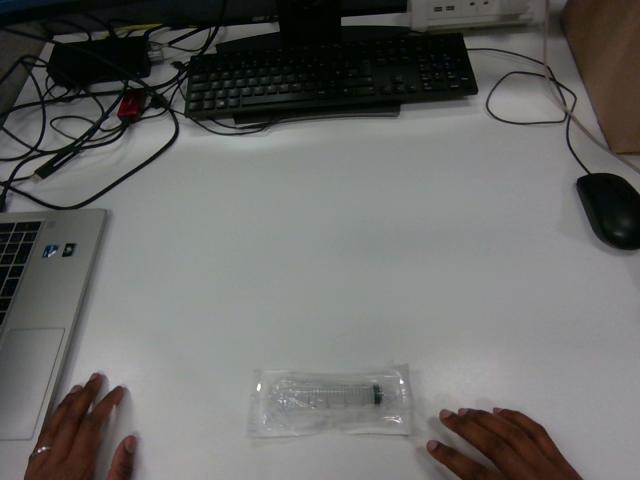syringe: (248, 365, 412, 437)
